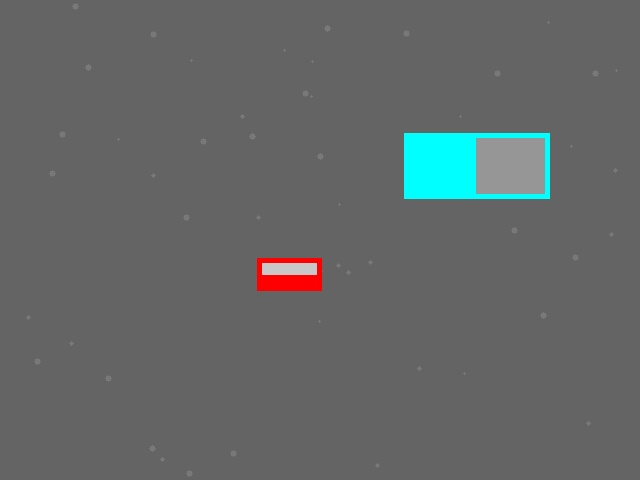car: (257, 258, 321, 290)
truck: (404, 133, 549, 198)
